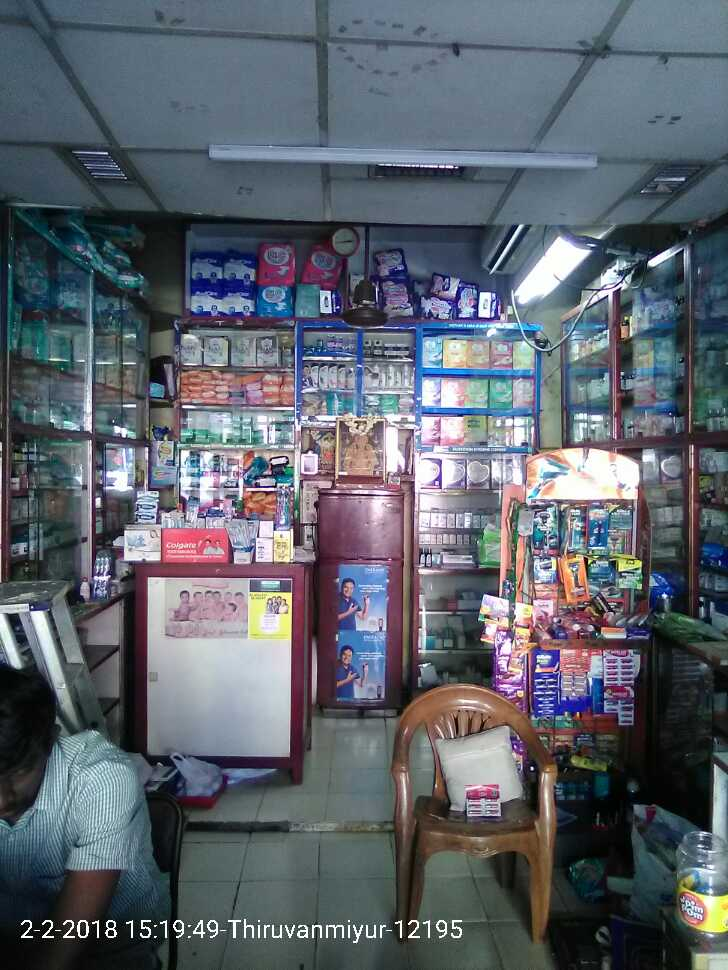oralcare: (227, 516, 255, 556), (277, 482, 292, 525)
vicks: (303, 332, 355, 356)
